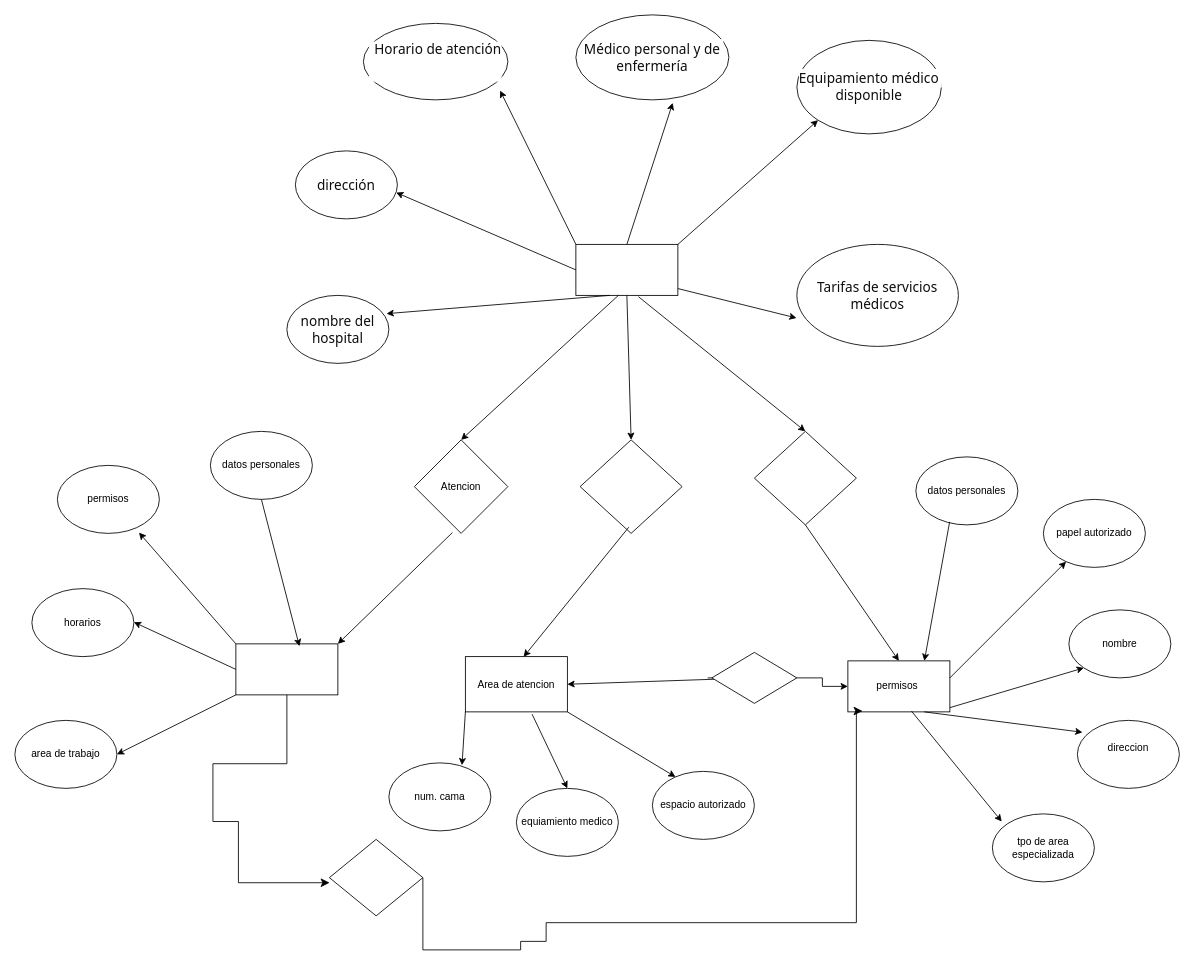
The diagram is 1194 pixels wide and 973 high, and some of its shapes have lost their labels. Here are the shapes that lost their labels. From the top down, the box of each, then its label:
(575, 244, 678, 295): hopital
(579, 439, 682, 533): paciente
(754, 431, 856, 525): personal medicos
(235, 643, 338, 695): empleado
(711, 652, 797, 703): tiene
(329, 839, 423, 916): solicita
